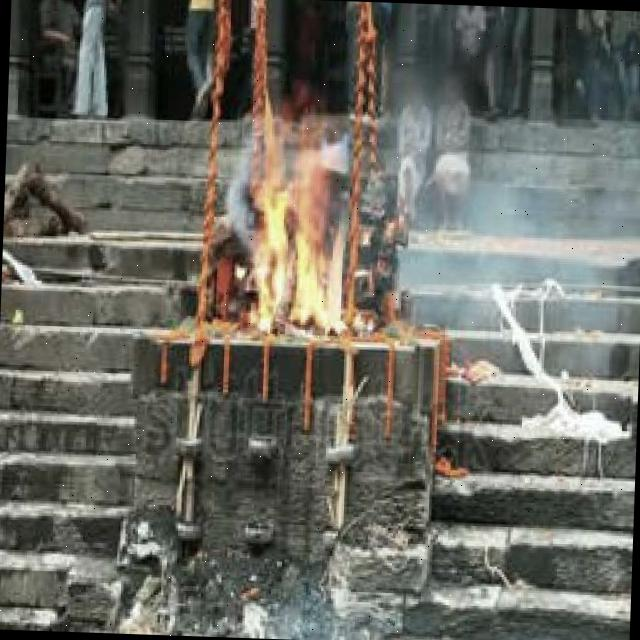fire: (245, 128, 354, 340)
